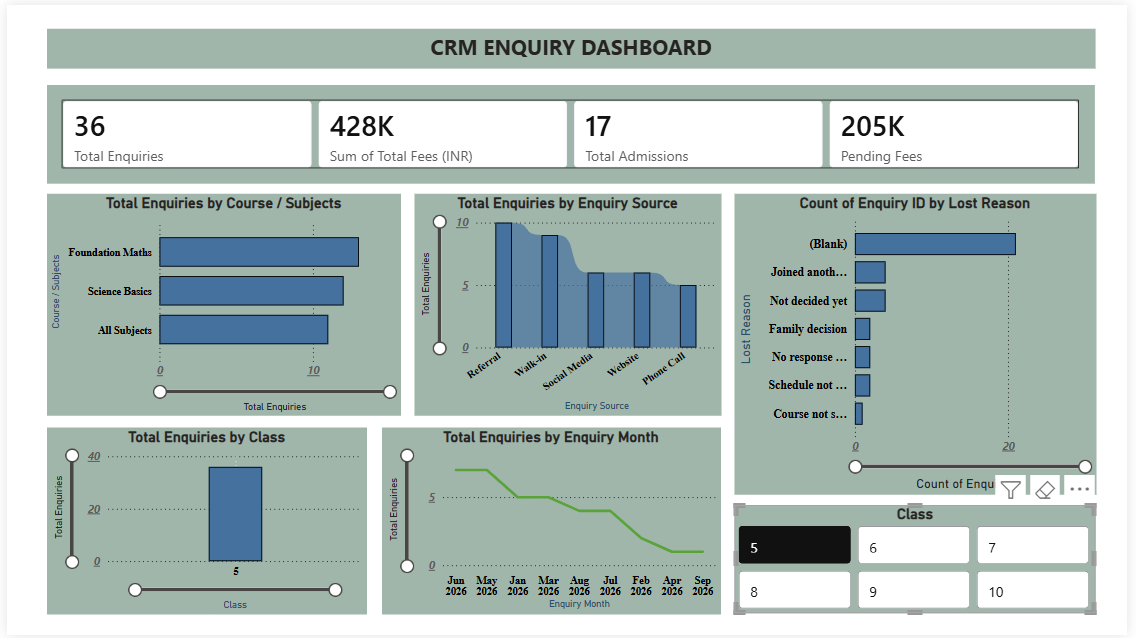

This screenshot's page, from the dashboard's own definition file:
{"tool":"powerbi","page":{"name":"Enquiry","canvas":[1280,720],"ordinal":0},"visuals":[{"type":"cardVisual","fields":{"Data":["EnquiryData.Total Enquiries","Sum(EnquiryData.Total Fees (INR))","EnquiryData.Total Admissions","EnquiryData.Pending Fees"]},"box":[46.2,91.2,1197.5,112.5],"z":0},{"type":"textbox","box":[46,27.4,1198.1,46],"z":1000},{"type":"ribbonChart","fields":{"Category":["EnquiryData.Enquiry Source"],"Y":["EnquiryData.Total Enquiries"]},"box":[465,215,350,253.8],"z":2000},{"type":"barChart","fields":{"Category":["EnquiryData.Lost Reason"],"Y":["CountNonNull(EnquiryData.Enquiry ID)"]},"box":[831.2,215,412.5,343.8],"z":3000},{"type":"lineChart","fields":{"Y":["EnquiryData.Total Enquiries"],"Category":["EnquiryData.Enquiry Month"]},"box":[428.8,482.5,386.2,212.5],"z":4000},{"type":"clusteredBarChart","fields":{"Category":["EnquiryData.Course / Subjects"],"Y":["EnquiryData.Total Enquiries"]},"box":[46.2,215,403.8,253.8],"z":5000},{"type":"clusteredColumnChart","fields":{"Category":["EnquiryData.Class"],"Y":["EnquiryData.Total Enquiries"]},"box":[46,483,365,213],"z":6000},{"type":"advancedSlicerVisual","fields":{"Values":["EnquiryData.Class"]},"box":[831.2,571.2,412.5,123.8],"z":7000}]}

Visuals, with their boxes in screenshot pixels (x1, y1, x2, y2), scaled from the page's 1280x720 canvas onto the 1136x638 screenshot:
cardVisual - EnquiryData.Total Enquiries x Sum(EnquiryData.Total Fees (INR)): x1=41, y1=81, x2=1104, y2=181
textbox: x1=41, y1=24, x2=1104, y2=65
ribbonChart - EnquiryData.Enquiry Source x EnquiryData.Total Enquiries: x1=413, y1=191, x2=723, y2=415
barChart - EnquiryData.Lost Reason x CountNonNull(EnquiryData.Enquiry ID): x1=738, y1=191, x2=1104, y2=495
lineChart - EnquiryData.Total Enquiries x EnquiryData.Enquiry Month: x1=381, y1=428, x2=723, y2=616
clusteredBarChart - EnquiryData.Course / Subjects x EnquiryData.Total Enquiries: x1=41, y1=191, x2=399, y2=415
clusteredColumnChart - EnquiryData.Class x EnquiryData.Total Enquiries: x1=41, y1=428, x2=365, y2=617
advancedSlicerVisual - EnquiryData.Class: x1=738, y1=506, x2=1104, y2=616
